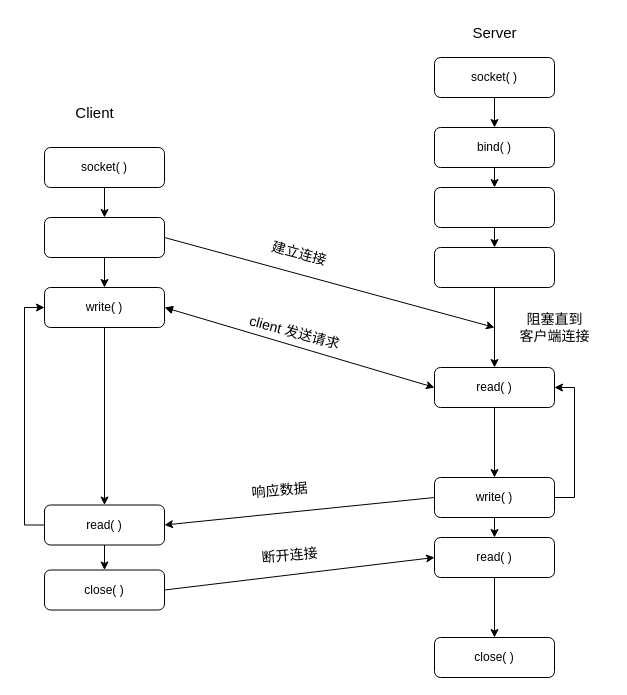
This 627x695 diagram has some shape labels left out. Here are the shapes that lost their labels. From the top down, the box of each, then its label:
(434, 186, 554, 228): listen( )
(44, 216, 164, 258): connect( )
(434, 246, 554, 288): accept( )
